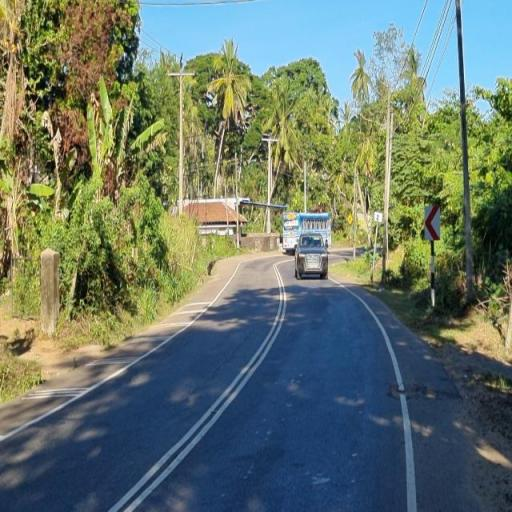double_white_line: (107, 256, 290, 512)
